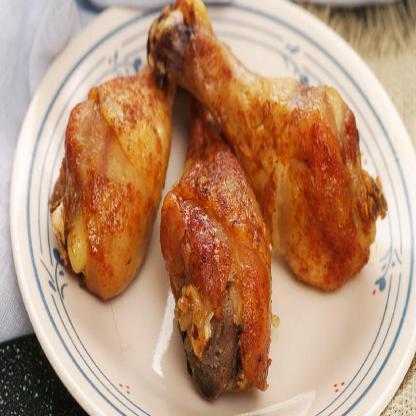ayam_goreng: (145, 0, 386, 292), (54, 0, 204, 296), (164, 63, 274, 391)
